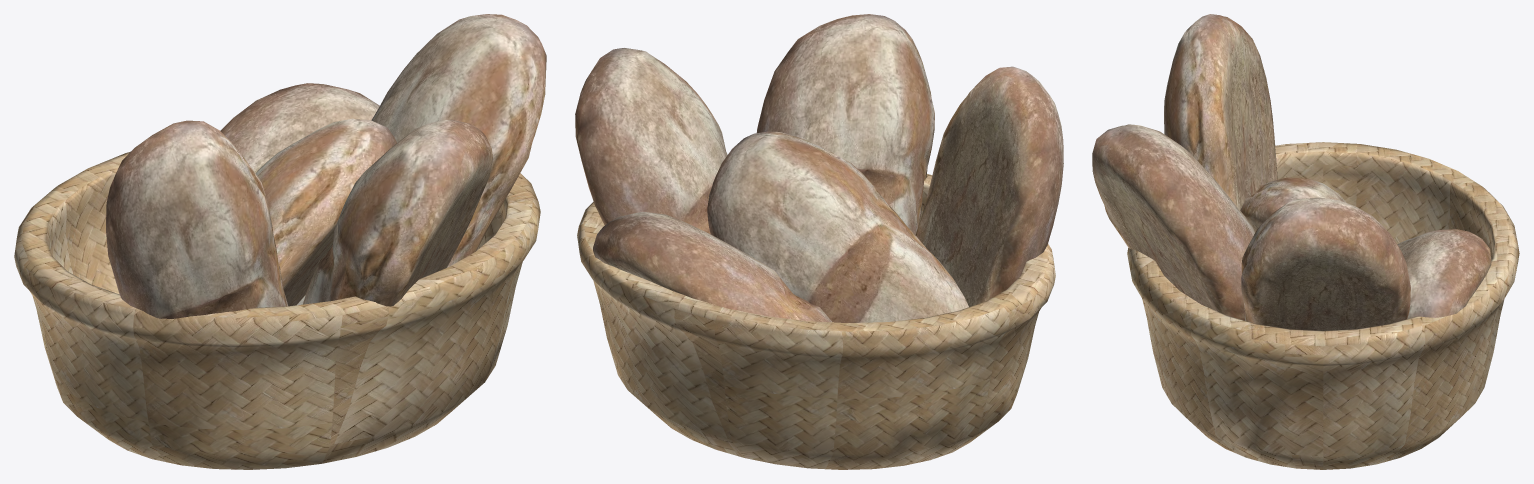
The model's file is tiem-gio-banh.glb.
3 renders of one model, left to right at view 1: azimuth 30°, elevation 25°; view 2: azimuth 150°, elevation 25°; view 3: azimuth 270°, elevation 25°, orthographic. The views are drawn at different scales.
Parts seen in each view (by area): view 1: tiem-gio-banh; view 2: tiem-gio-banh; view 3: tiem-gio-banh.
Part boxes in pixels (x1,y1,x2,y2): tiem-gio-banh: (14,14,546,469); tiem-gio-banh: (575,14,1063,469); tiem-gio-banh: (1092,14,1519,469).
Size of the model in its own units: 2.42 by 1.85 by 2.09.
Materials: 2 (2 with a texture image).
